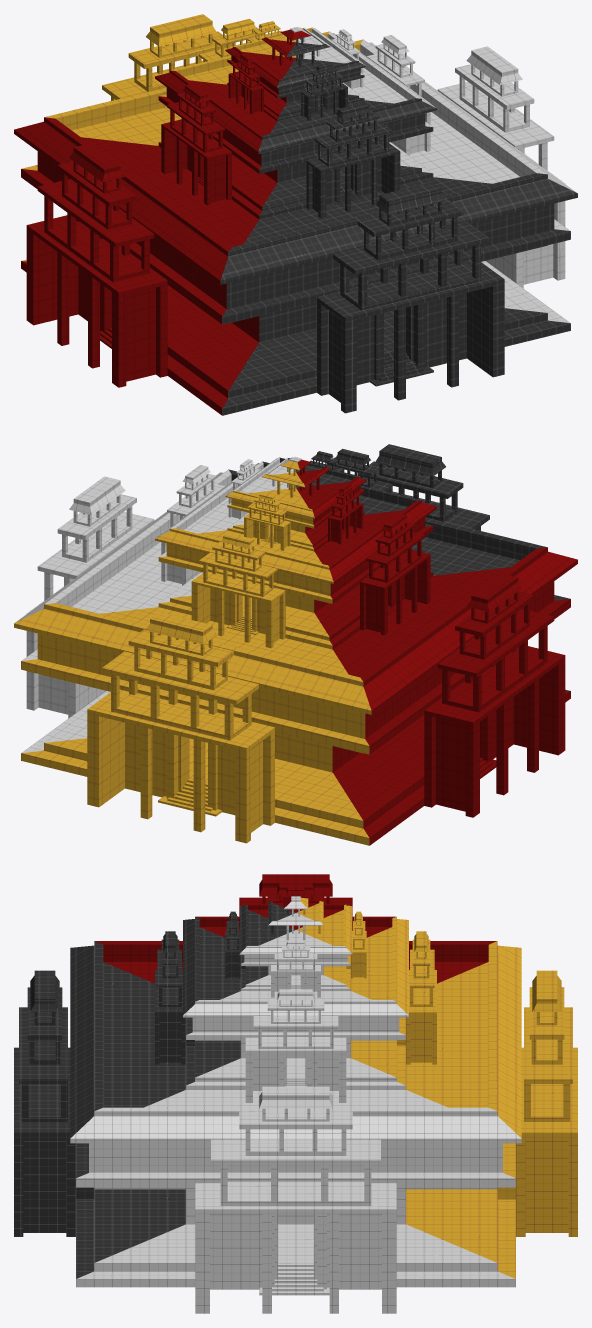
Rendered from kalachakra.obj.
The picture shows the model from 3 angles, top to bottom: view 1: azimuth 30°, elevation 25°; view 2: azimuth 150°, elevation 25°; view 3: azimuth 270°, elevation 25°; orthographic projection. The views are drawn at different scales.
Parts seen in each view (by area): view 1: entity0_brush738, entity0_brush381, entity0_brush6, entity0_brush736, entity0_brush747, entity0_brush372, entity0_brush737, entity0_brush12, entity0_brush18, entity0_brush274, entity0_brush552, entity0_brush279 (+74 smaller); view 2: entity0_brush189, entity0_brush381, entity0_brush6, entity0_brush187, entity0_brush372, entity0_brush198, entity0_brush188, entity0_brush12, entity0_brush0, entity0_brush279, entity0_brush552, entity0_brush274 (+76 smaller); view 3: entity0_brush555, entity0_brush553, entity0_brush0, entity0_brush18, entity0_brush564, entity0_brush554, entity0_brush198, entity0_brush747, entity0_brush189, entity0_brush738, entity0_brush96, entity0_brush640 (+66 smaller).
Boxes of the visible parts, x1,y1,x2,y2 form: entity0_brush738: (220,178,577,284); entity0_brush381: (167,285,258,397); entity0_brush6: (81,137,258,247); entity0_brush736: (226,203,554,308); entity0_brush747: (228,308,547,398); entity0_brush372: (14,121,228,284); entity0_brush737: (222,229,570,324); entity0_brush12: (410,112,519,183); entity0_brush18: (228,177,547,323); entity0_brush274: (112,287,155,384); entity0_brush552: (360,39,547,176); entity0_brush279: (31,232,78,325); entity0_brush189: (14,608,371,714); entity0_brush381: (333,715,424,827); entity0_brush6: (333,567,510,677); entity0_brush187: (37,633,365,738); entity0_brush372: (363,551,577,714); entity0_brush198: (44,738,363,828); entity0_brush188: (21,659,369,754); entity0_brush12: (72,542,181,613); entity0_brush0: (44,607,363,753); entity0_brush279: (436,717,479,814); entity0_brush552: (44,469,231,606); entity0_brush274: (513,662,560,755); entity0_brush555: (70,1116,521,1143); entity0_brush553: (89,1143,502,1172); entity0_brush0: (406,962,488,1107); entity0_brush18: (103,962,185,1107); entity0_brush564: (94,1224,497,1271); entity0_brush554: (76,1172,515,1187); entity0_brush198: (406,1189,497,1262); entity0_brush747: (94,1189,185,1262); entity0_brush189: (497,945,521,1137); entity0_brush738: (70,945,94,1137); entity0_brush96: (525,1137,568,1232); entity0_brush640: (23,1137,66,1232).
Bounding box in the file's own units: 3936 × 2280 × 3936.
